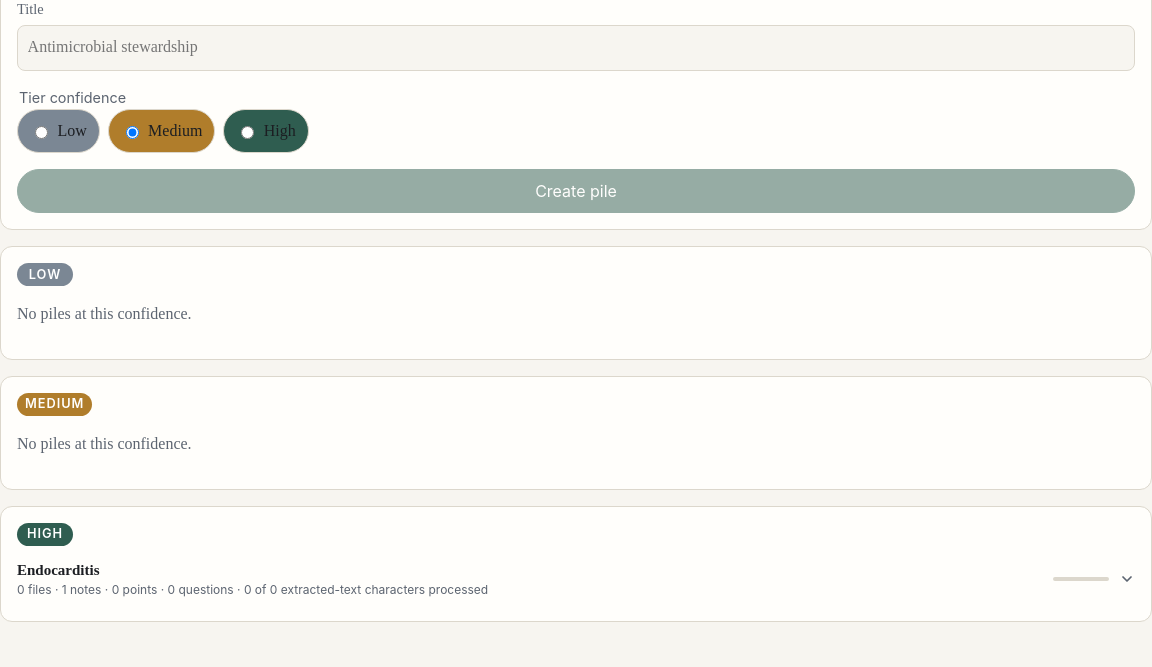
Test: the body draft › survives the backend not being there at all
This screenshot has width=1152, height=667.
Click the button "Endocarditis" at (58, 570), box [17, 554, 1135, 605]
(page scrolled)
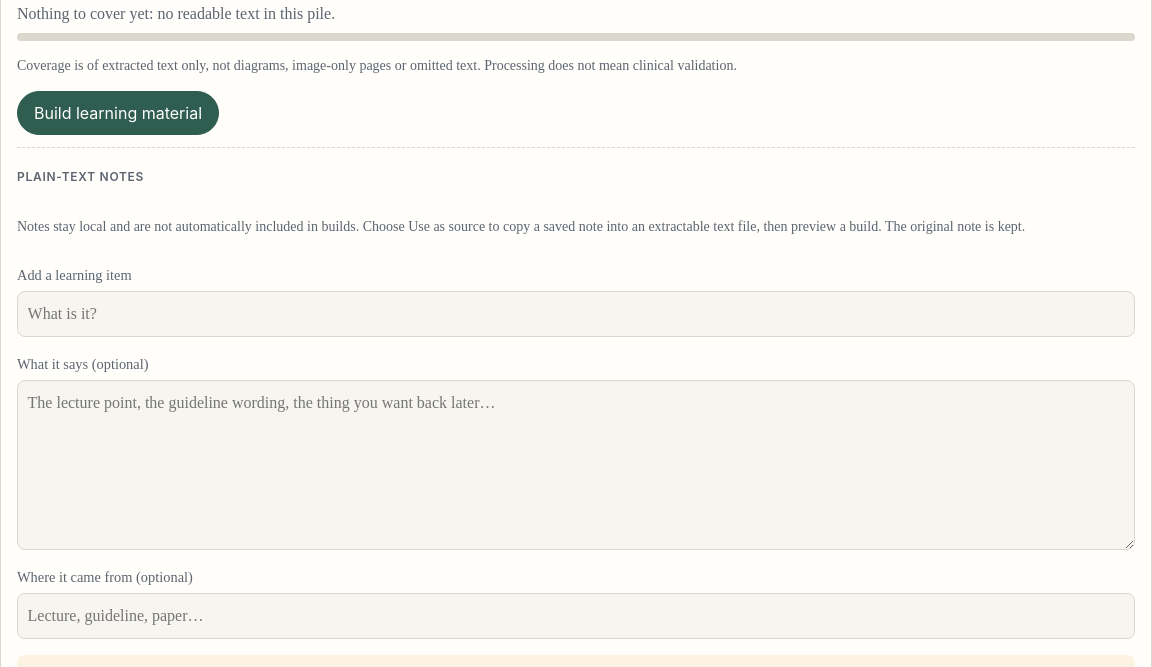
Type "Duke criteria" into the field labelled "Add a learning item" at (576, 314), box [17, 291, 1135, 337]
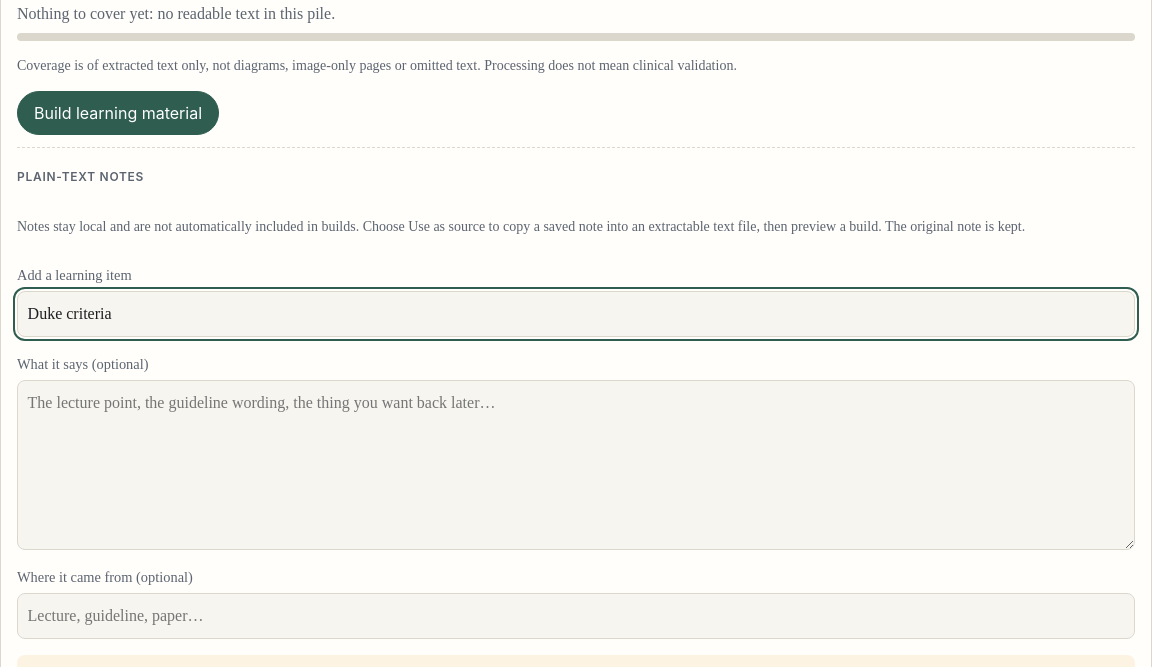
Type "Two major criteria." into the text box labelled "What it says (optional)" at (576, 465), box [17, 380, 1135, 550]
(page scrolled)
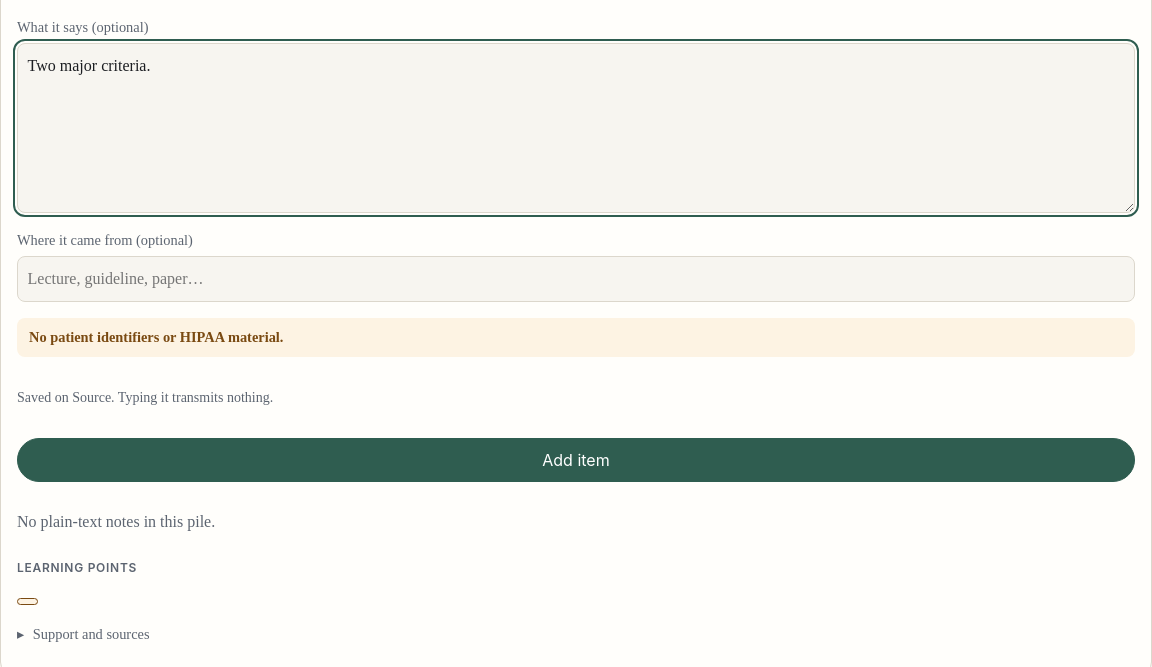
Click the button "Add item" at (576, 460), box [17, 438, 1135, 482]
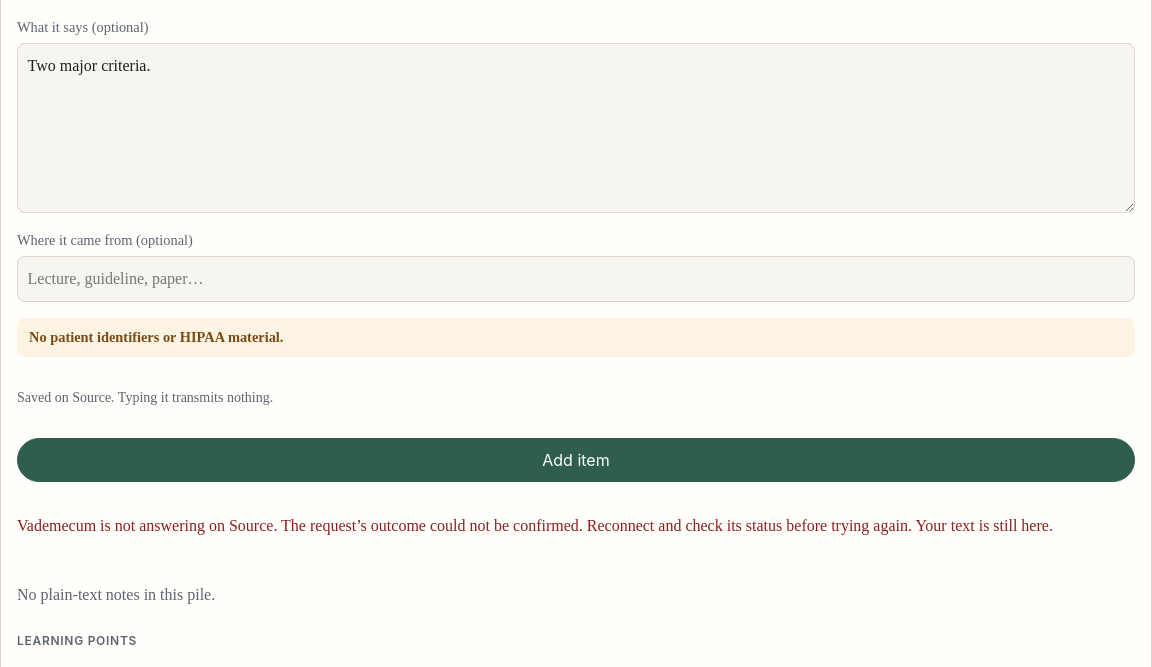
Result: the message shows "not answering on Source" at [17, 517, 912, 534]
